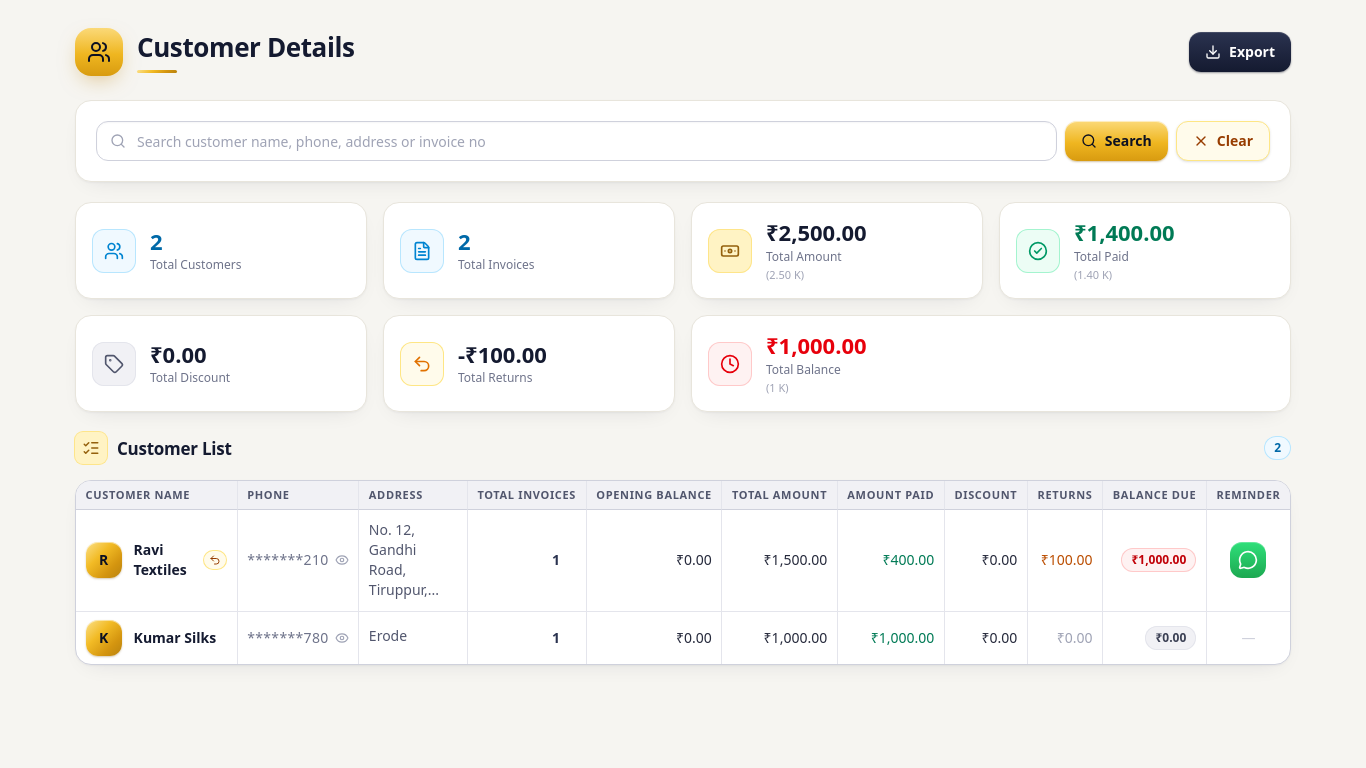
Test: Customer Details page (shared party layout) › Export opens the export dialog
Check: the heading "Customer List" is shown, box [75,432,232,464]
Click the button "Export". click: (1240, 52)
box: [1189,32,1291,72]
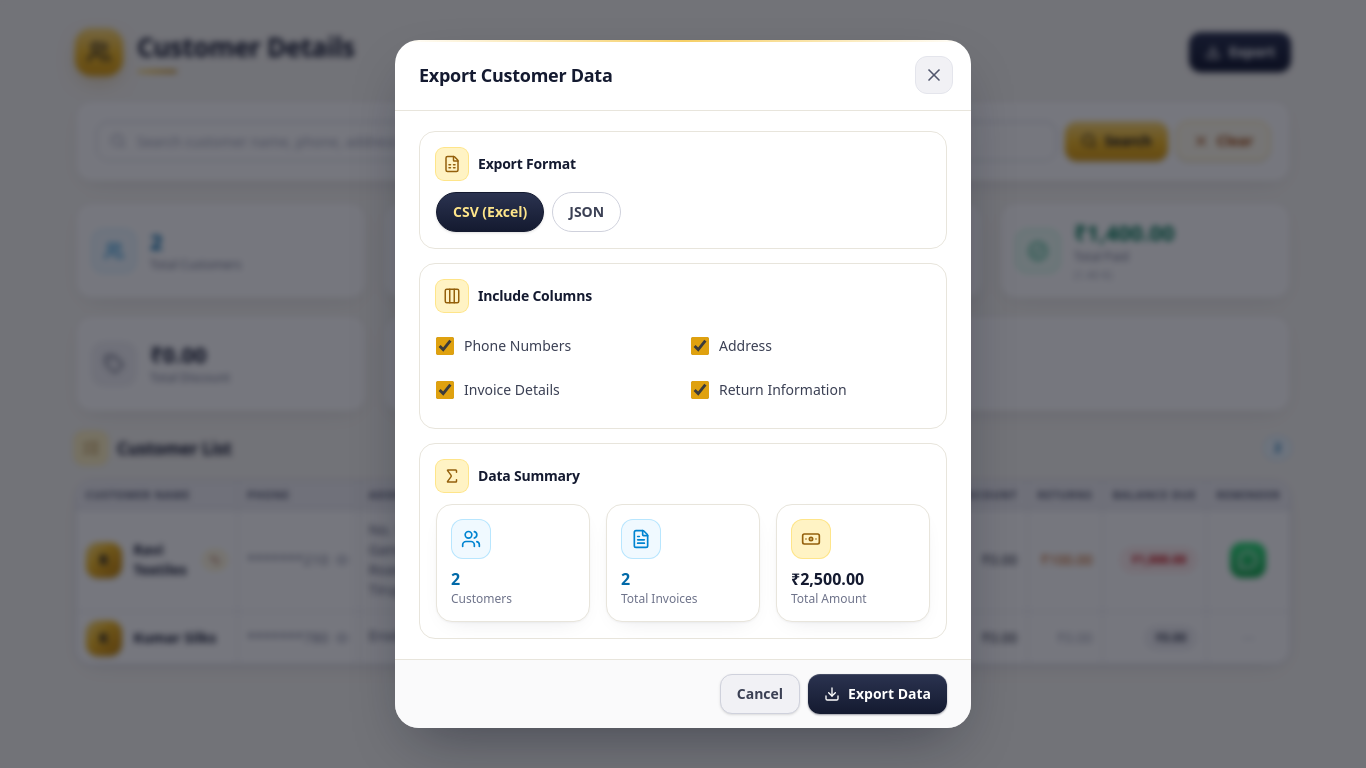
Check: the dialog "Export Customer Data" is shown, box [395,40,971,728]
